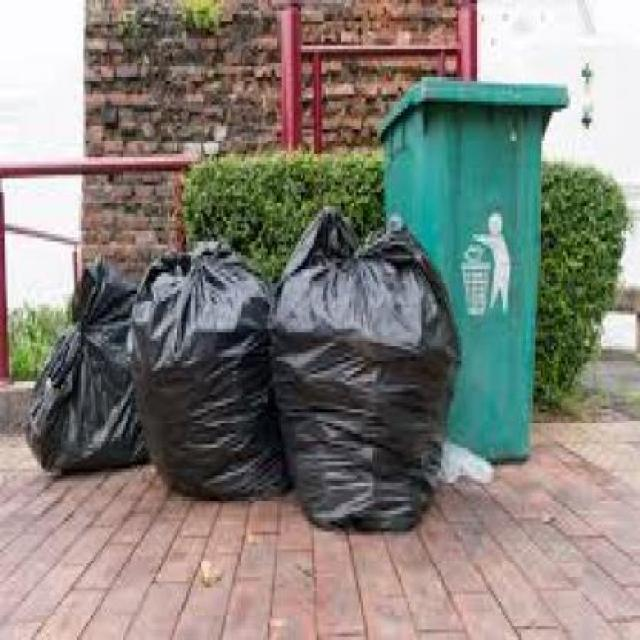garbage: (22, 248, 467, 538)
